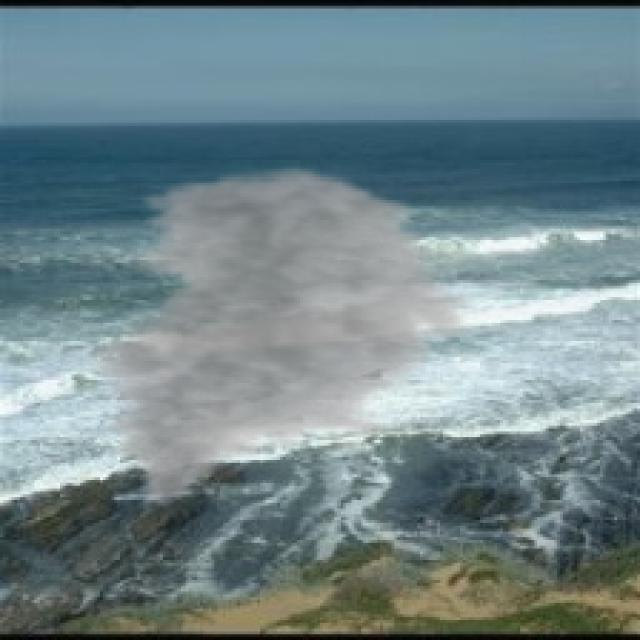smoke: (77, 163, 483, 511)
